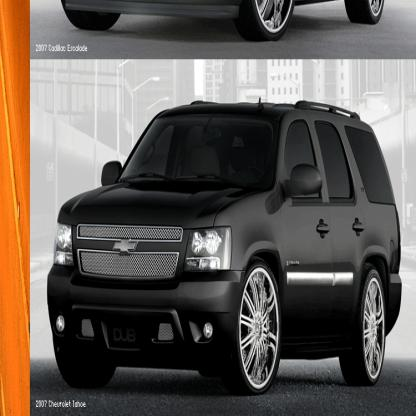Vehicle: (46, 97, 406, 396)
